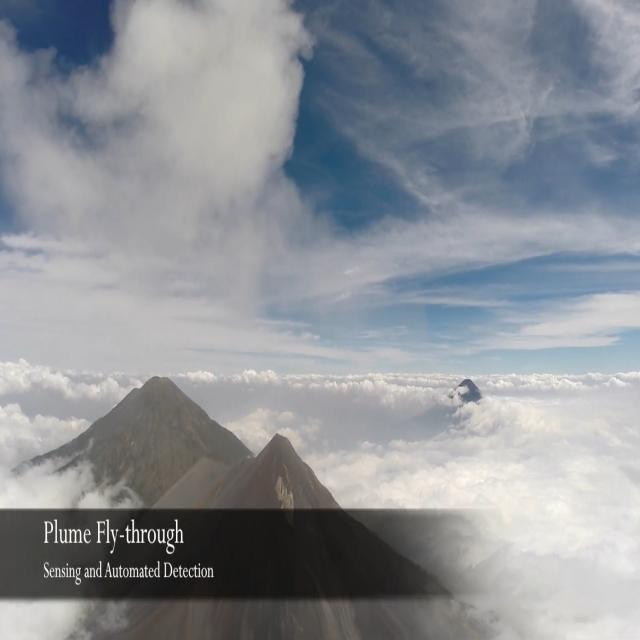Summit: (219, 426, 352, 509)
